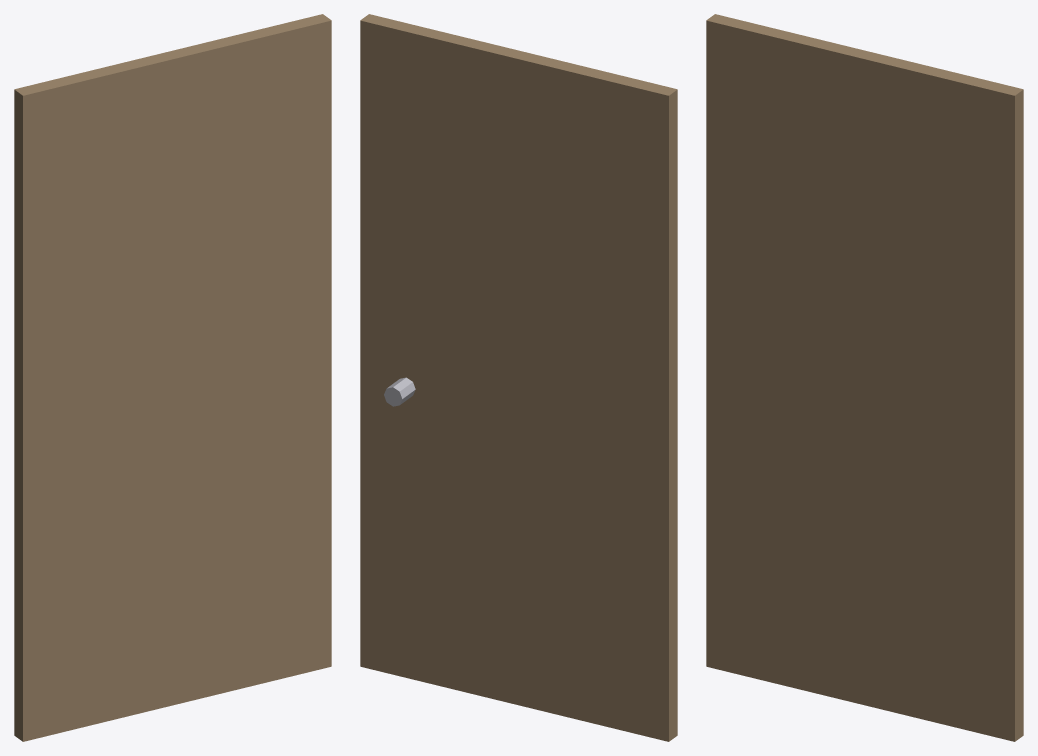
File: door_wood.glb
3 views of the same model, side by side, from view 1: azimuth 30°, elevation 25°; view 2: azimuth 150°, elevation 25°; view 3: azimuth 330°, elevation 25° (orthographic).
Visible parts, largest first — view 1: door_wood; view 2: door_wood; view 3: door_wood.
Part boxes in pixels (x1,y1,x2,y2): door_wood: [14, 14, 331, 741]; door_wood: [360, 14, 677, 741]; door_wood: [706, 14, 1023, 741].
Size of the model in its own units: 1 by 2 by 0.125.
